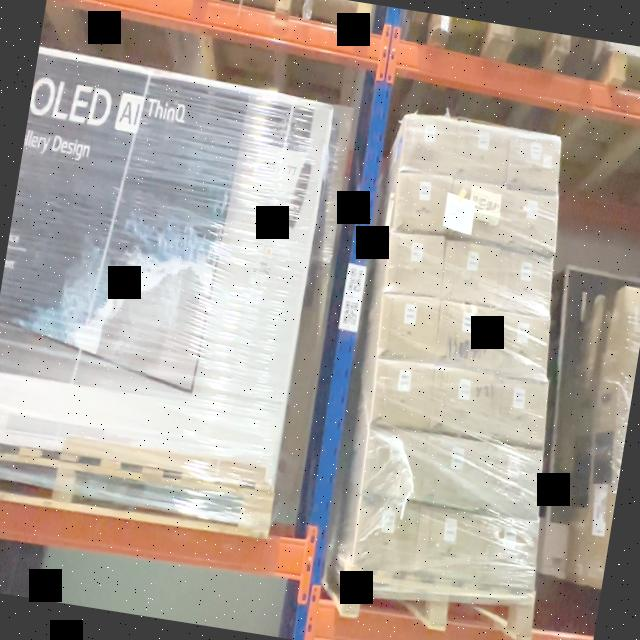box: (0, 58, 341, 495), (353, 496, 422, 571), (416, 508, 484, 582), (361, 428, 428, 501), (421, 437, 486, 510), (482, 446, 546, 518), (476, 518, 540, 590), (428, 368, 493, 438), (371, 360, 434, 430), (379, 294, 441, 363), (386, 231, 448, 298), (488, 377, 548, 446), (440, 240, 500, 304), (436, 306, 496, 370), (393, 173, 452, 237), (496, 252, 554, 316), (448, 184, 508, 244), (402, 115, 459, 178), (494, 314, 550, 378), (455, 123, 512, 184), (504, 192, 560, 254), (506, 132, 562, 192)
